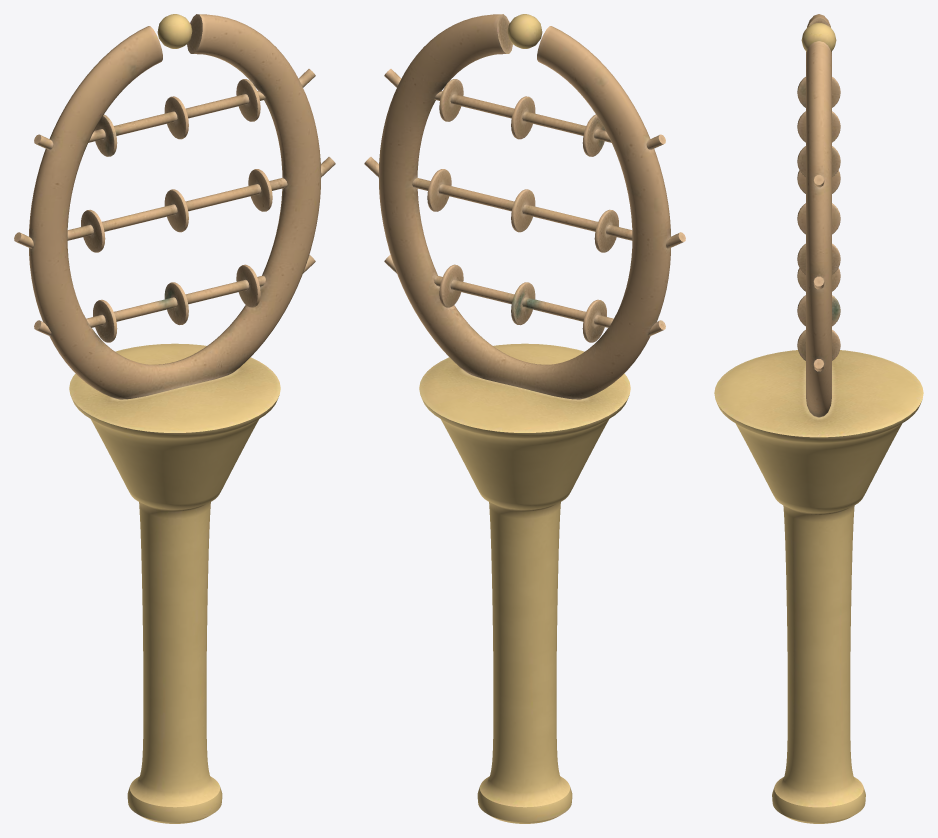
Rendered from sistrum.glb.
The picture shows the model from 3 angles, left to right: view 1: azimuth 30°, elevation 25°; view 2: azimuth 150°, elevation 25°; view 3: azimuth 270°, elevation 25°; orthographic projection.
Parts seen in each view (by area): view 1: sistrum; view 2: sistrum; view 3: sistrum.
Part boxes in pixels (bbox=[...]): sistrum: bbox=[14, 14, 335, 823]; sistrum: bbox=[364, 14, 685, 823]; sistrum: bbox=[714, 14, 923, 823].
Size of the model in its own units: 0.1259 by 0.2984 by 0.0722.
Materials: 1 (1 with a texture image).
